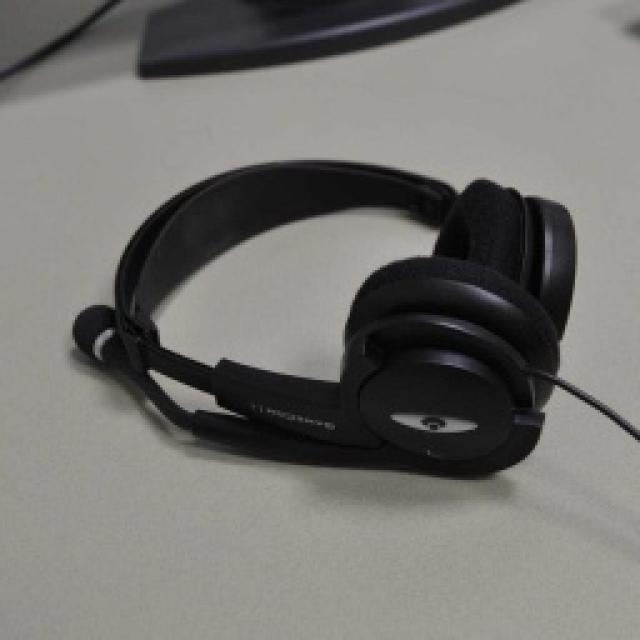headphones: (70, 155, 578, 475)
